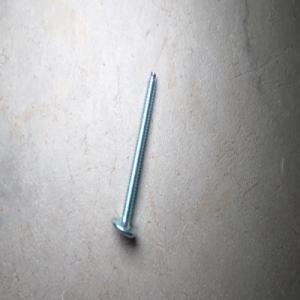Bolt: (110, 70, 156, 239)
